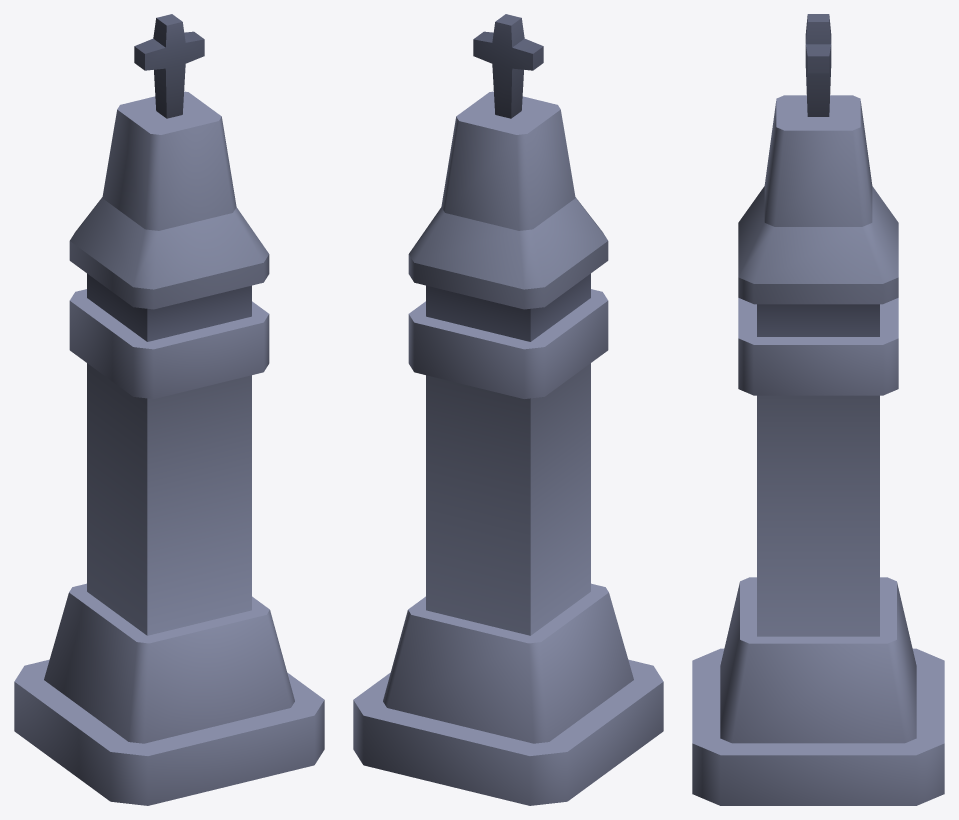
File: K_cross-column.glb
The picture shows the model from 3 angles, left to right: view 1: azimuth 30°, elevation 25°; view 2: azimuth 150°, elevation 25°; view 3: azimuth 270°, elevation 25°; orthographic projection.
Parts seen in each view (by area): view 1: cross-column; view 2: cross-column; view 3: cross-column.
Part boxes in pixels (x1,y1,x2,y2): cross-column: (14,14,324,805); cross-column: (353,14,663,805); cross-column: (692,14,944,805).
Size of the model in its own units: 0.45 by 1.45 by 0.45.
